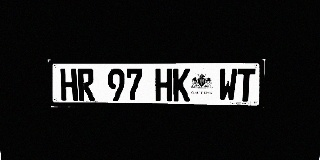7: (125, 68, 143, 101)
9: (108, 68, 125, 101)
H: (60, 68, 78, 101), (155, 68, 172, 101)
K: (173, 68, 190, 101)
R: (77, 68, 95, 101)
T: (237, 68, 256, 101)
W: (219, 68, 237, 101)
